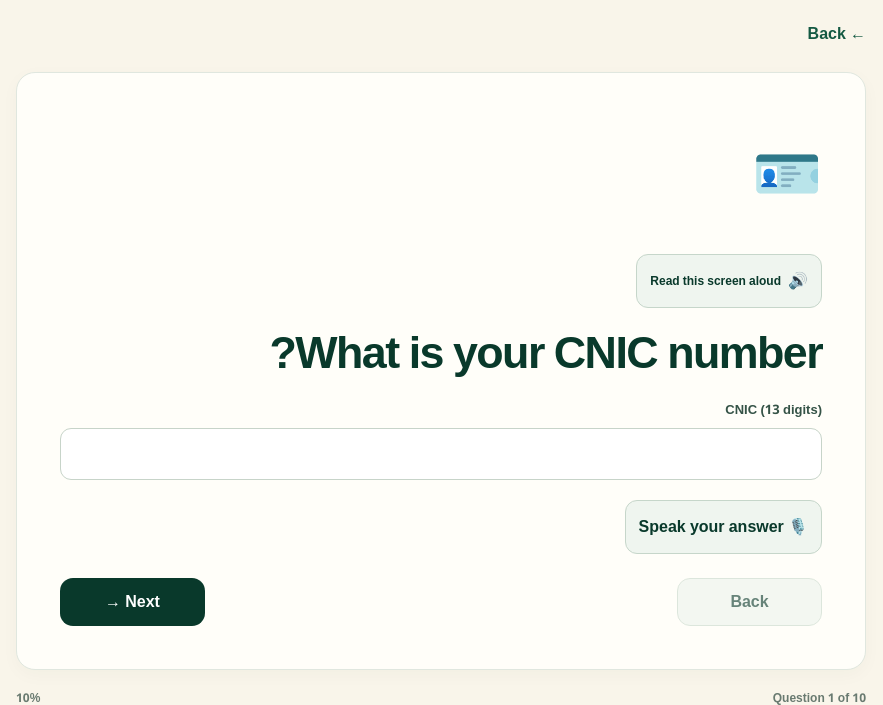
Test case: citizen application journey › creates a citizen profile, starts a claim, and saves each wizard step through the proposal API
Earlier steps of the test are not shown.
Expected: the heading "What is your CNIC number?" is shown, [270,306,822,401]
Step 1. Click the button "Next →" → (132, 602), box [60,578,205,626]
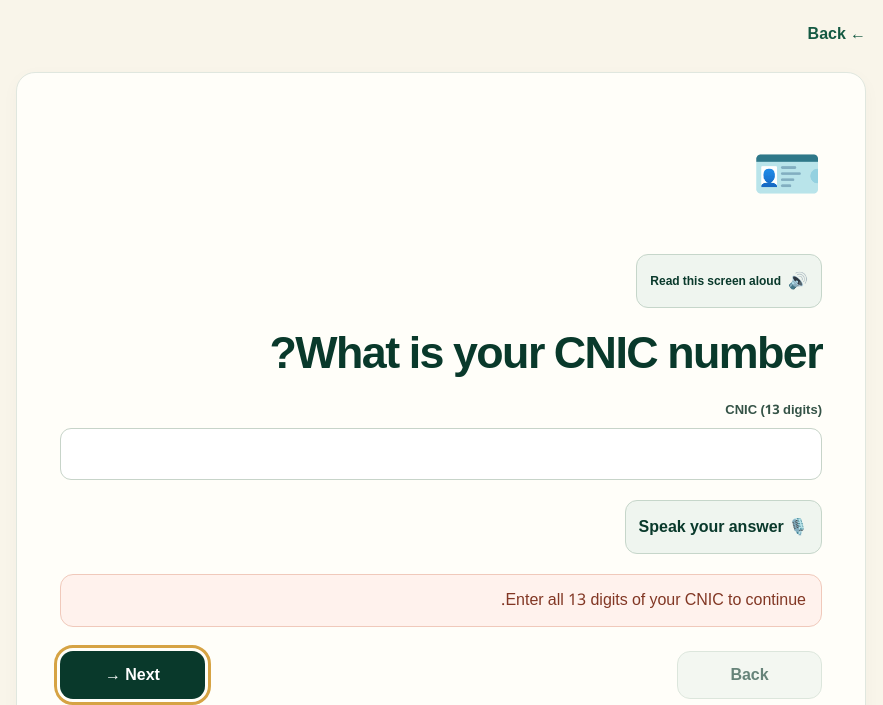
Result: the text "Enter all 13 digits of your CNIC to continue." is shown at [60,574,822,627]
Step 2. Type "4210112345671" into the field labelled "CNIC (13 digits)" → (441, 454), box [60,428,822,480]
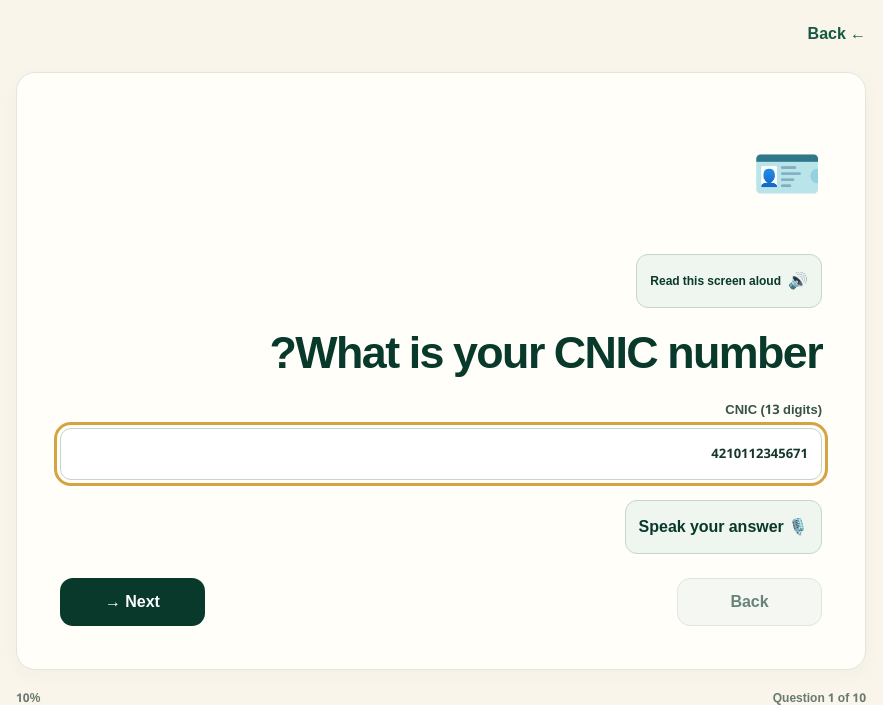
Step 3. Click the button "Next →" → (132, 602), box [60,578,205,626]
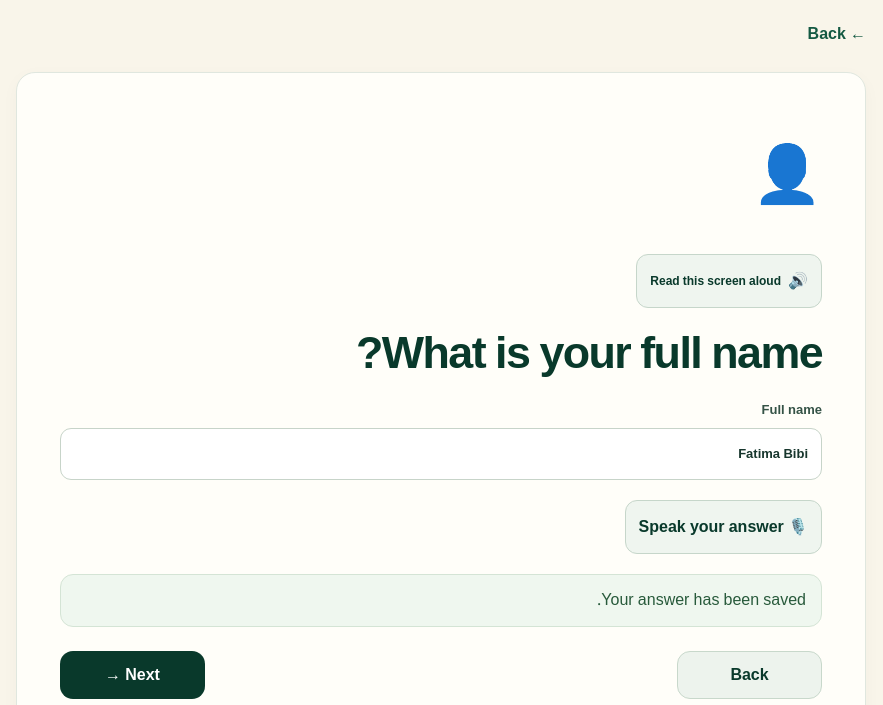
Result: the heading "What is your full name?" is shown at [356,306,822,401]
Result: the field labelled "Full name" holds "Fatima Bibi" at [60,428,822,480]
Step 4. Click the button "Back" → (750, 675), box [677,651,822,699]
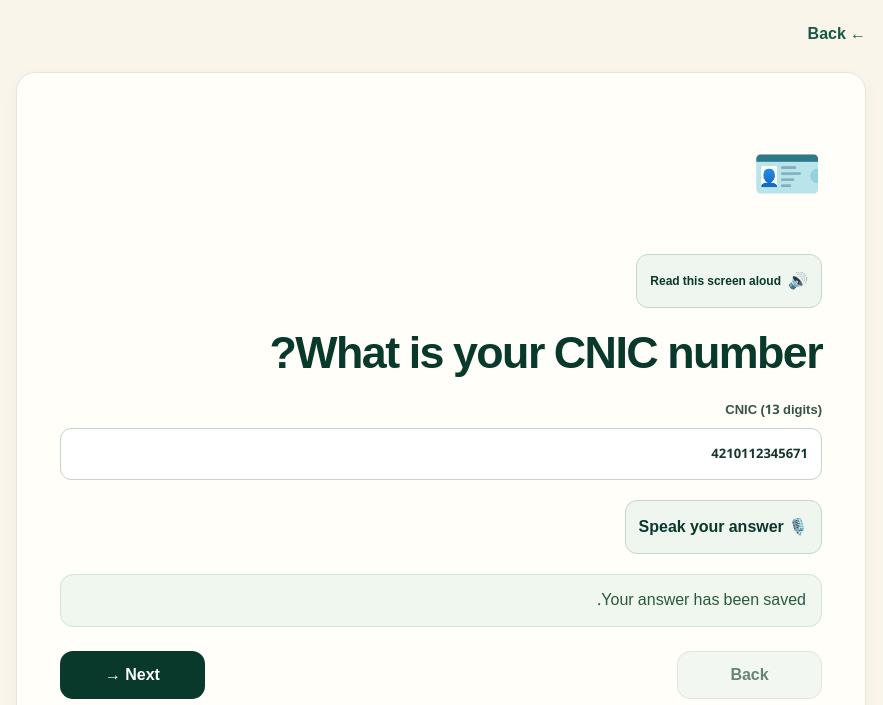
Result: the field labelled "CNIC (13 digits)" holds "4210112345671" at [60,428,822,480]
Step 5. Click the button "Next →" → (132, 675), box [60,651,205,699]
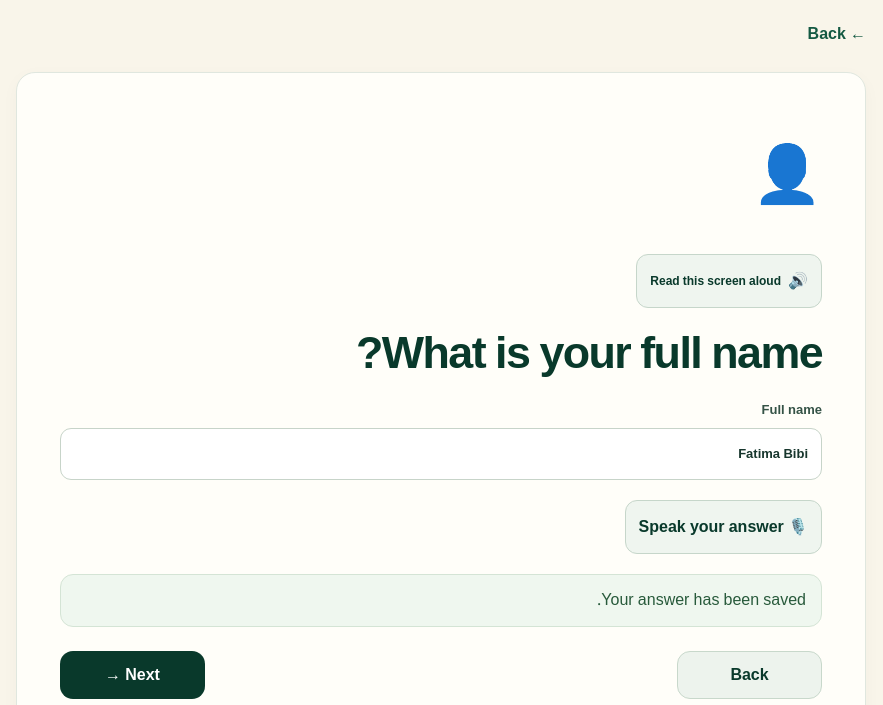
Result: the heading "What is your full name?" is shown at [356,306,822,401]
Step 6. Click the button "Next →" → (132, 675), box [60,651,205,699]
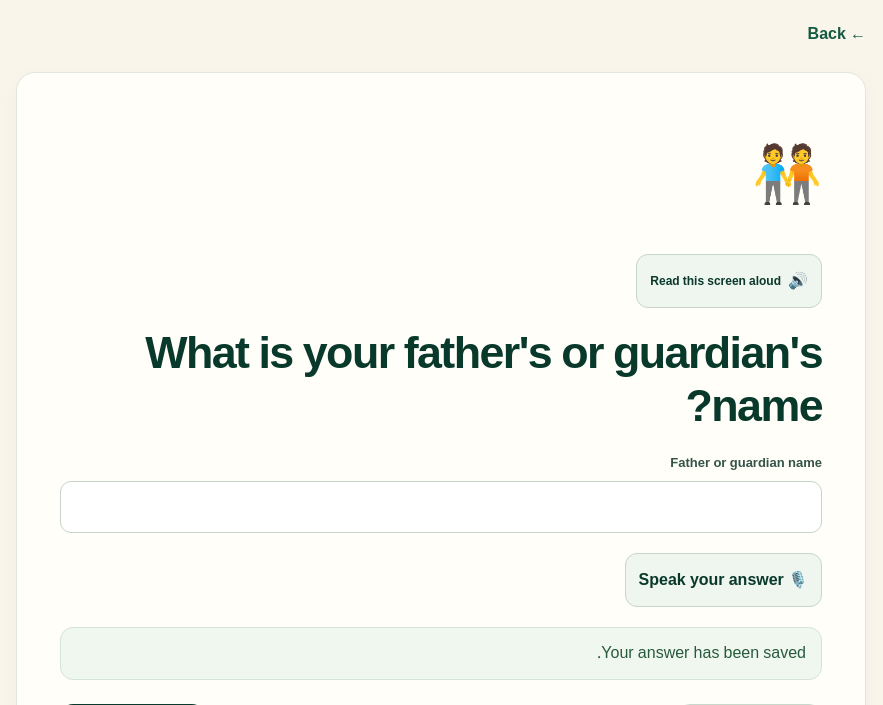
Result: the heading "What is your father's or guardian's name?" is shown at [132,328,822,434]
